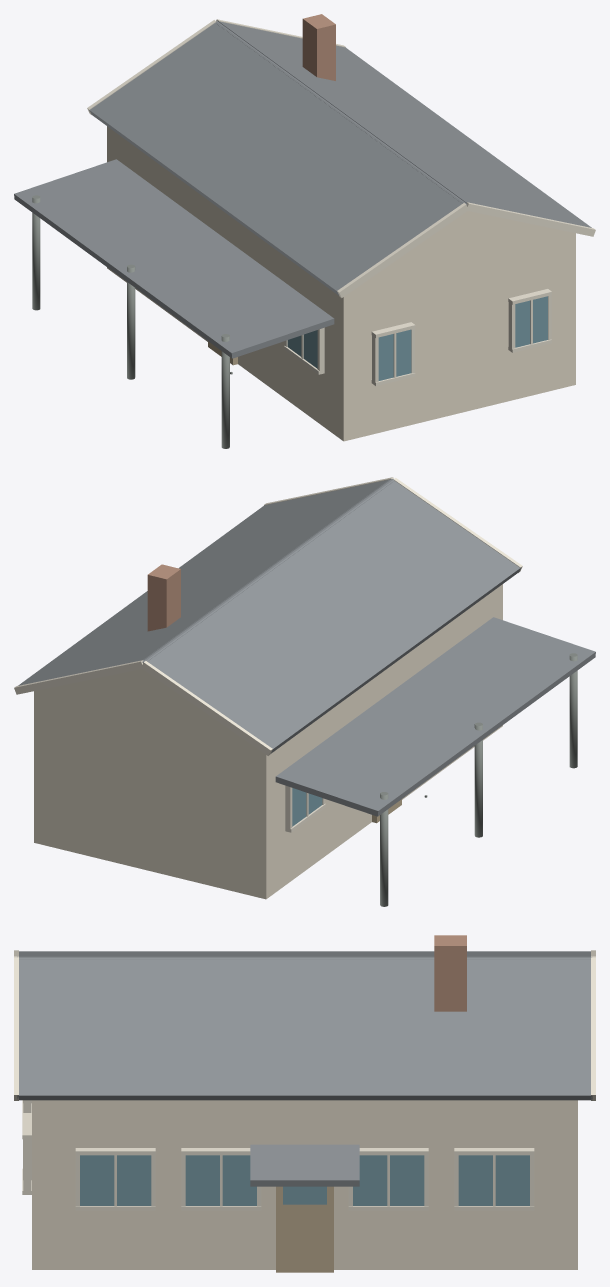
The model's file is tyne-station-modern_lod0.glb.
3 renders of one model, top to bottom at view 1: azimuth 30°, elevation 25°; view 2: azimuth 150°, elevation 25°; view 3: azimuth 270°, elevation 25°, orthographic. The views are drawn at different scales.
Visible parts, largest first — view 1: RF_Roof.001, RF_Station_Body, RF_PlatformCanopy, RF_Roof, RF_Gable, RF_StationChimney, RF_Vergeband.001, RF_Window.009, RF_Window, RF_Vergeband.003, RF_Ridge, RF_CanopyColumn.001 (+4 smaller); view 2: RF_Station_Body, RF_Roof.001, RF_PlatformCanopy, RF_Roof, RF_Gable.001, RF_StationChimney, RF_Vergeband.002, RF_Vergeband, RF_Ridge, RF_CanopyColumn, RF_CanopyColumn.001, RF_CanopyColumn.002 (+2 smaller); view 3: RF_Roof, RF_Station_Body, RF_PublicAwning, RF_Station_Door, RF_Roof.001, RF_Window.005, RF_Window.008, RF_Window.006, RF_Window.007, RF_StationChimney, RF_Ridge, RF_Station_DoorGlazing (+7 smaller).
Part boxes in pixels (bbox=[...]): RF_Roof.001: bbox=[89, 22, 463, 295]; RF_Station_Body: bbox=[107, 126, 575, 441]; RF_PlatformCanopy: bbox=[14, 159, 334, 358]; RF_Roof: bbox=[218, 21, 591, 227]; RF_Gable: bbox=[366, 211, 568, 281]; RF_StationChimney: bbox=[302, 14, 335, 80]; RF_Vergeband.001: bbox=[337, 203, 468, 297]; RF_Window.009: bbox=[378, 329, 411, 380]; RF_Window: bbox=[515, 296, 547, 347]; RF_Vergeband.003: bbox=[466, 202, 595, 236]; RF_Ridge: bbox=[216, 21, 467, 205]; RF_CanopyColumn.001: bbox=[221, 334, 229, 448]; RF_Station_Body: bbox=[34, 584, 502, 899]; RF_Roof.001: bbox=[146, 480, 520, 753]; RF_PlatformCanopy: bbox=[275, 617, 595, 816]; RF_Roof: bbox=[18, 479, 391, 685]; RF_Gable.001: bbox=[41, 669, 243, 739]; RF_StationChimney: bbox=[147, 564, 180, 631]; RF_Vergeband.002: bbox=[141, 661, 272, 755]; RF_Vergeband: bbox=[14, 660, 143, 694]; RF_Ridge: bbox=[142, 479, 394, 662]; RF_CanopyColumn: bbox=[380, 792, 388, 906]; RF_CanopyColumn.001: bbox=[569, 653, 577, 768]; RF_CanopyColumn.002: bbox=[474, 722, 482, 837]; RF_Roof: bbox=[17, 958, 592, 1100]; RF_Station_Body: bbox=[32, 1100, 577, 1269]; RF_PublicAwning: bbox=[250, 1144, 359, 1186]; RF_Station_Door: bbox=[276, 1186, 333, 1272]; RF_Roof.001: bbox=[17, 951, 591, 957]; RF_Window.005: bbox=[80, 1155, 151, 1205]; RF_Window.008: bbox=[458, 1155, 529, 1205]; RF_Window.006: bbox=[185, 1155, 256, 1205]; RF_Window.007: bbox=[353, 1155, 424, 1205]; RF_StationChimney: bbox=[434, 935, 466, 1011]; RF_Ridge: bbox=[19, 957, 590, 959]; RF_Station_DoorGlazing: bbox=[283, 1186, 326, 1204].
Bounding box in the file's own units: 14.11 × 8.7 × 15.98.
